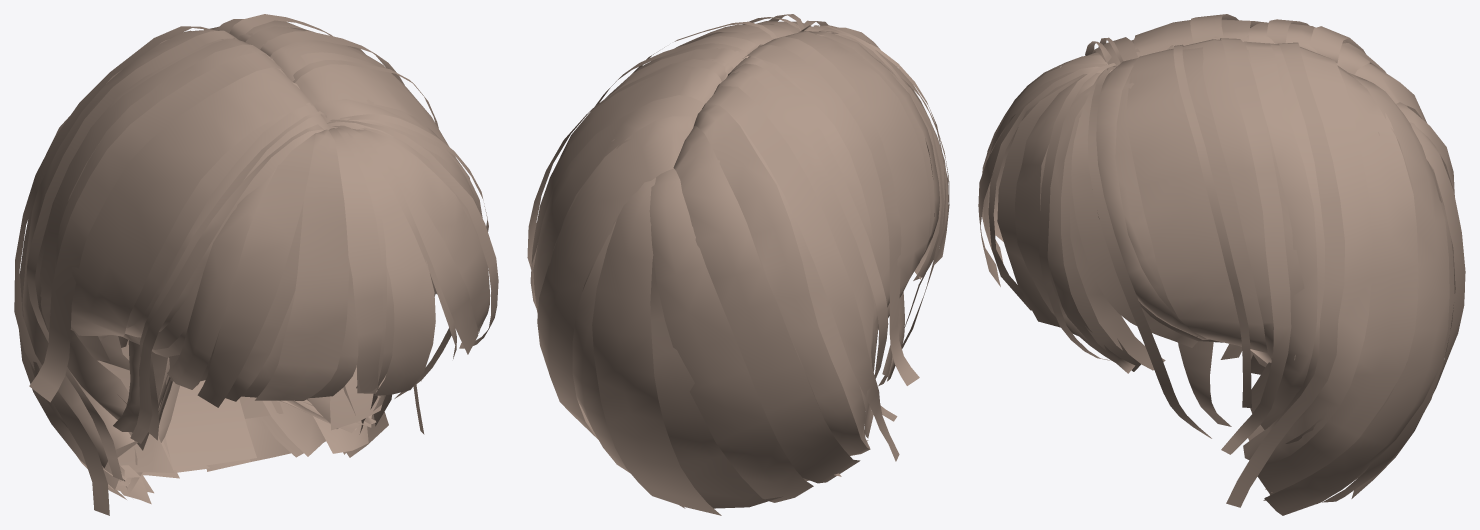
File: female_hair_09_lod0.glb
3 views of the same model, side by side, from view 1: azimuth 30°, elevation 25°; view 2: azimuth 150°, elevation 25°; view 3: azimuth 270°, elevation 25° (orthographic). The views are drawn at different scales.
Visible parts, largest first — view 1: female-hair-09; view 2: female-hair-09; view 3: female-hair-09.
Boxes of the visible parts, box(x1,y1,x2,y2) form: female-hair-09: box(14, 14, 498, 515); female-hair-09: box(527, 14, 949, 515); female-hair-09: box(978, 14, 1465, 515).
Bounding box in the file's own units: 0.2019 × 0.229 × 0.2262.
